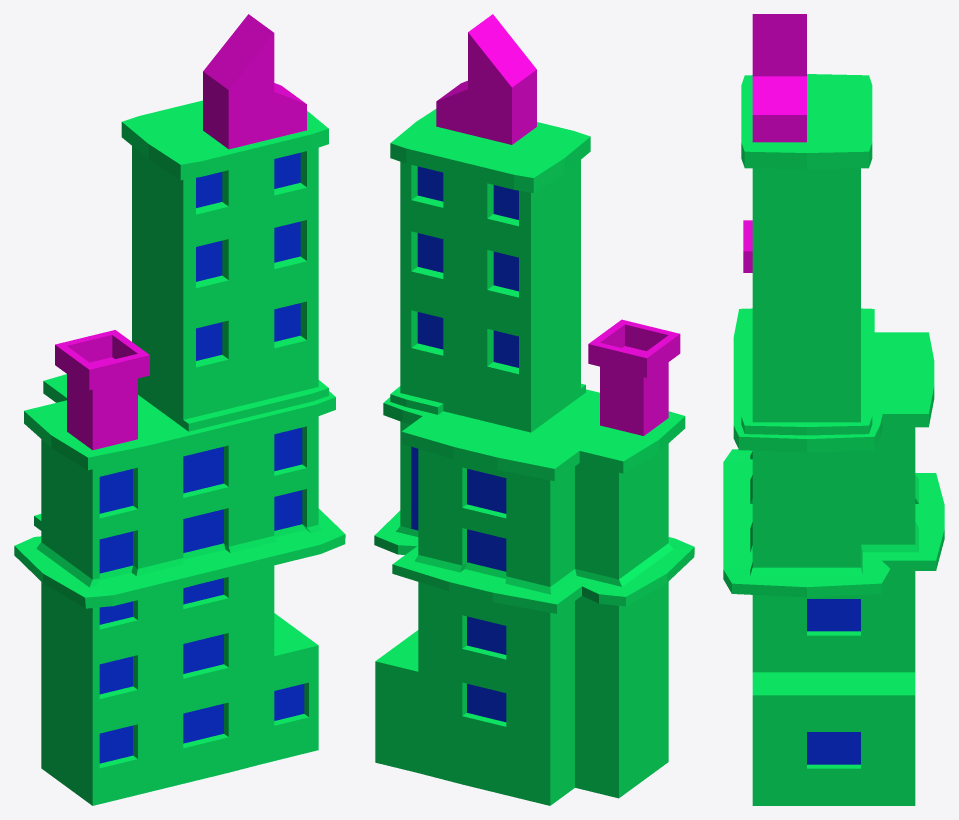
The picture shows the model from 3 angles, left to right: view 1: azimuth 30°, elevation 25°; view 2: azimuth 150°, elevation 25°; view 3: azimuth 270°, elevation 25°; orthographic projection. The views are drawn at different scales.
Visible parts, largest first — view 1: Object005, Object003, Object004; view 2: Object005, Object003, Object004; view 3: Object005, Object003, Object004.
Part boxes in pixels (<box>): Object005: <box>121,14,328,431</box>; Object003: <box>14,508,345,805</box>; Object004: <box>24,330,335,587</box>; Object005: <box>390,14,590,432</box>; Object003: <box>374,510,694,805</box>; Object004: <box>383,319,685,594</box>; Object005: <box>741,14,872,435</box>; Object003: <box>723,449,944,805</box>; Object004: <box>733,220,934,576</box>.
Size of the model in its own units: 81.59 by 207 by 54.05.
